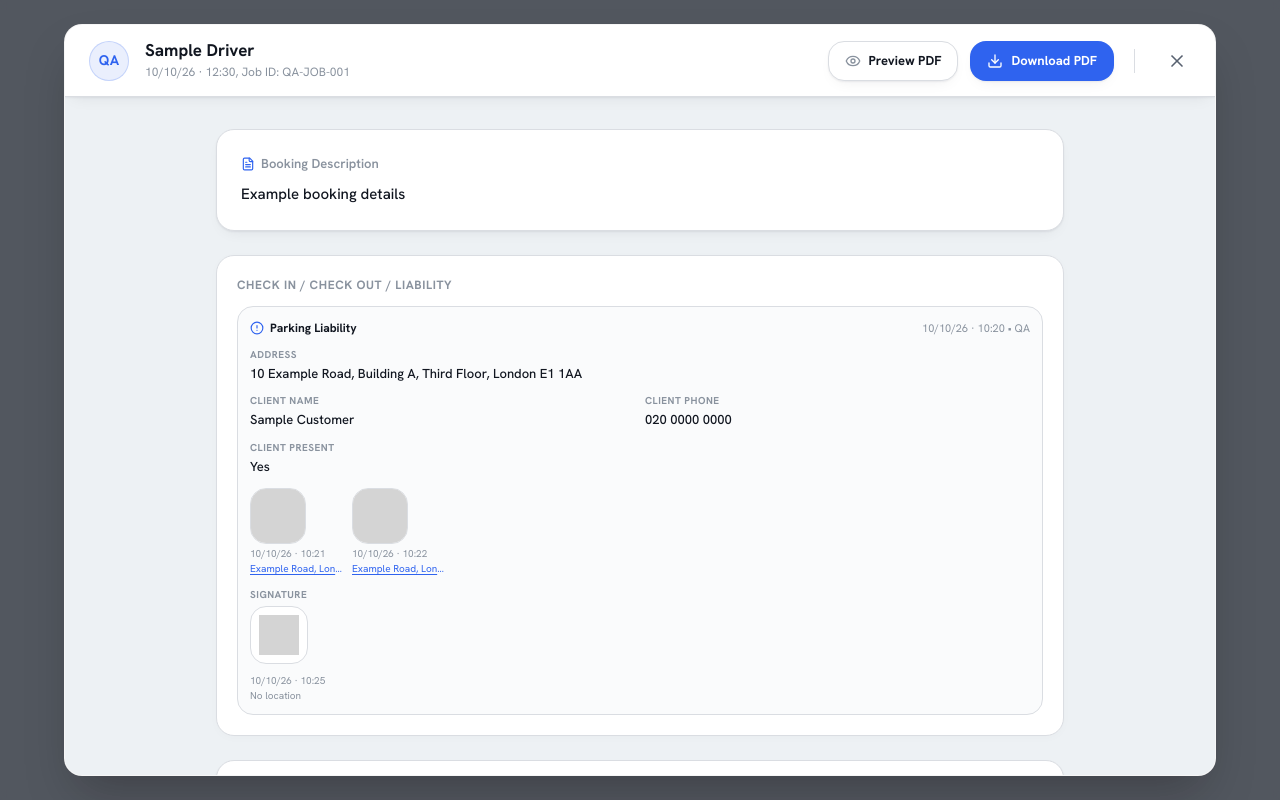
Test: Submission document preview › opens and previews a historical job with null reported overtime without crashing
Click the button "Preview PDF": (893, 60) [828,40,958,80]
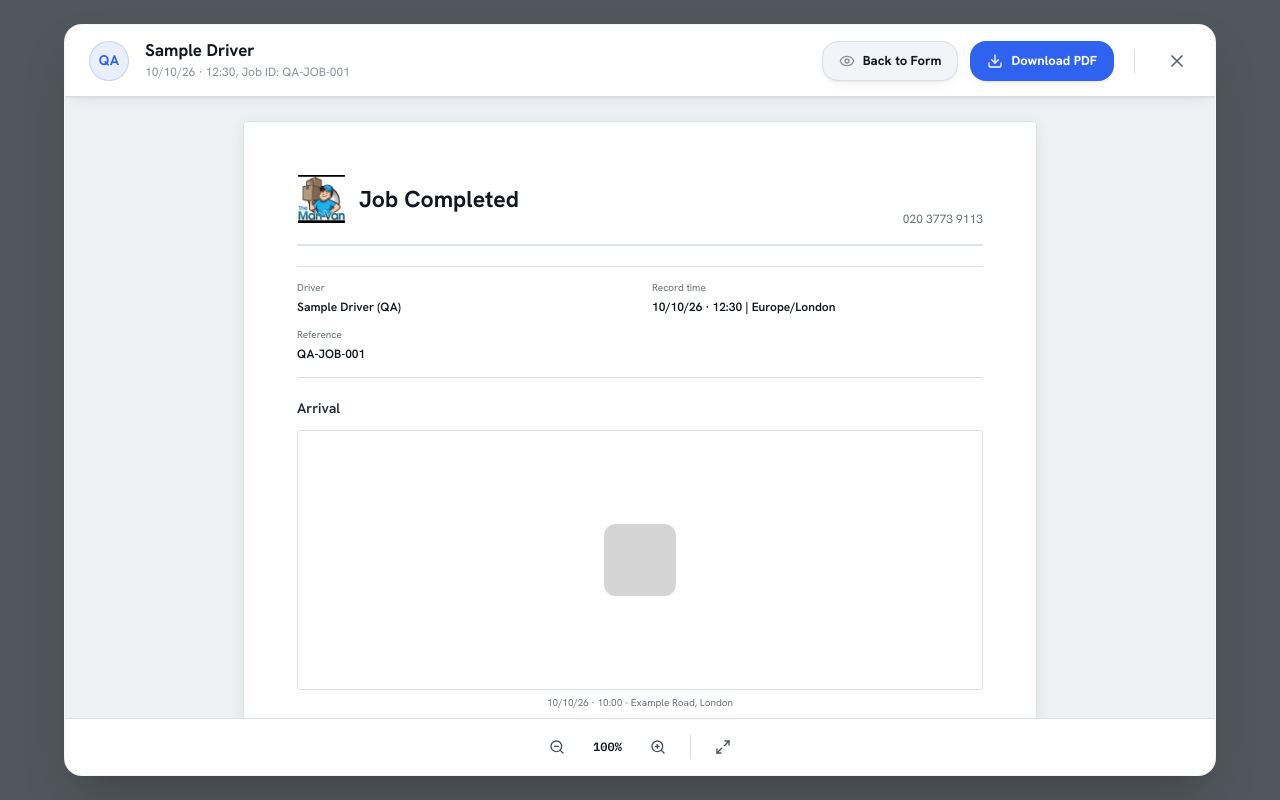
Expected: the heading "Job Completed" is shown, [359,184,519,213]
